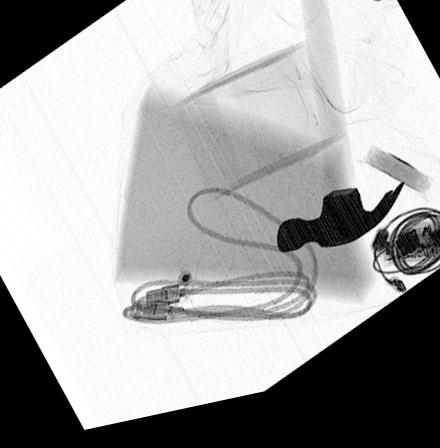Hammer: (274, 0, 405, 267)
